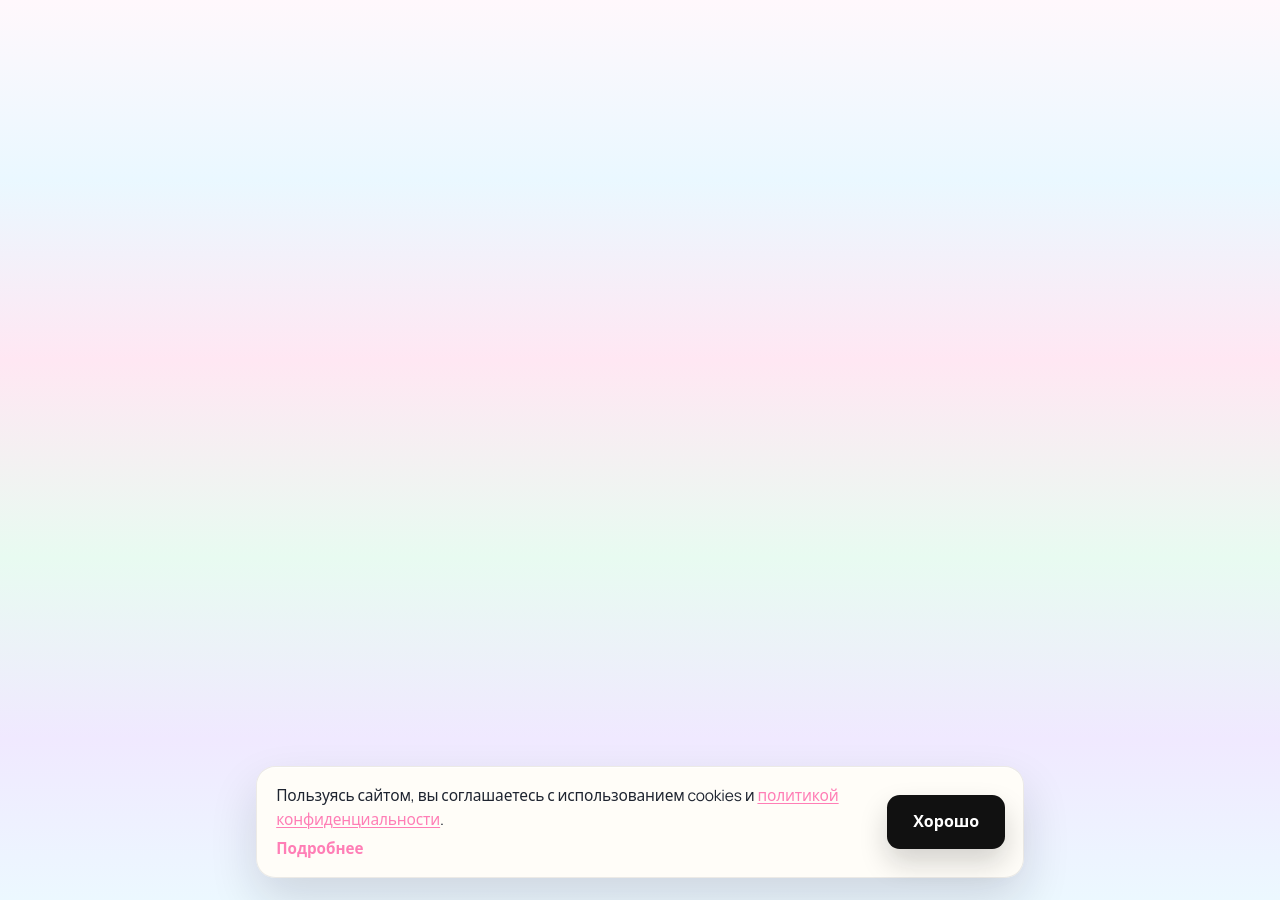
it: shows collapsed consent copy, expands details, and links to privacy and cookie policy pages
Expected: the text "Пользуясь сайтом, вы соглашаетесь с использованием cookies" is shown, [276, 784, 754, 806]
Expected: the text "Продолжая использовать сайт, Вы соглашаетесь с использованием cookies" is not shown
Click the button "Подробнее" at (320, 849), box [276, 837, 364, 861]
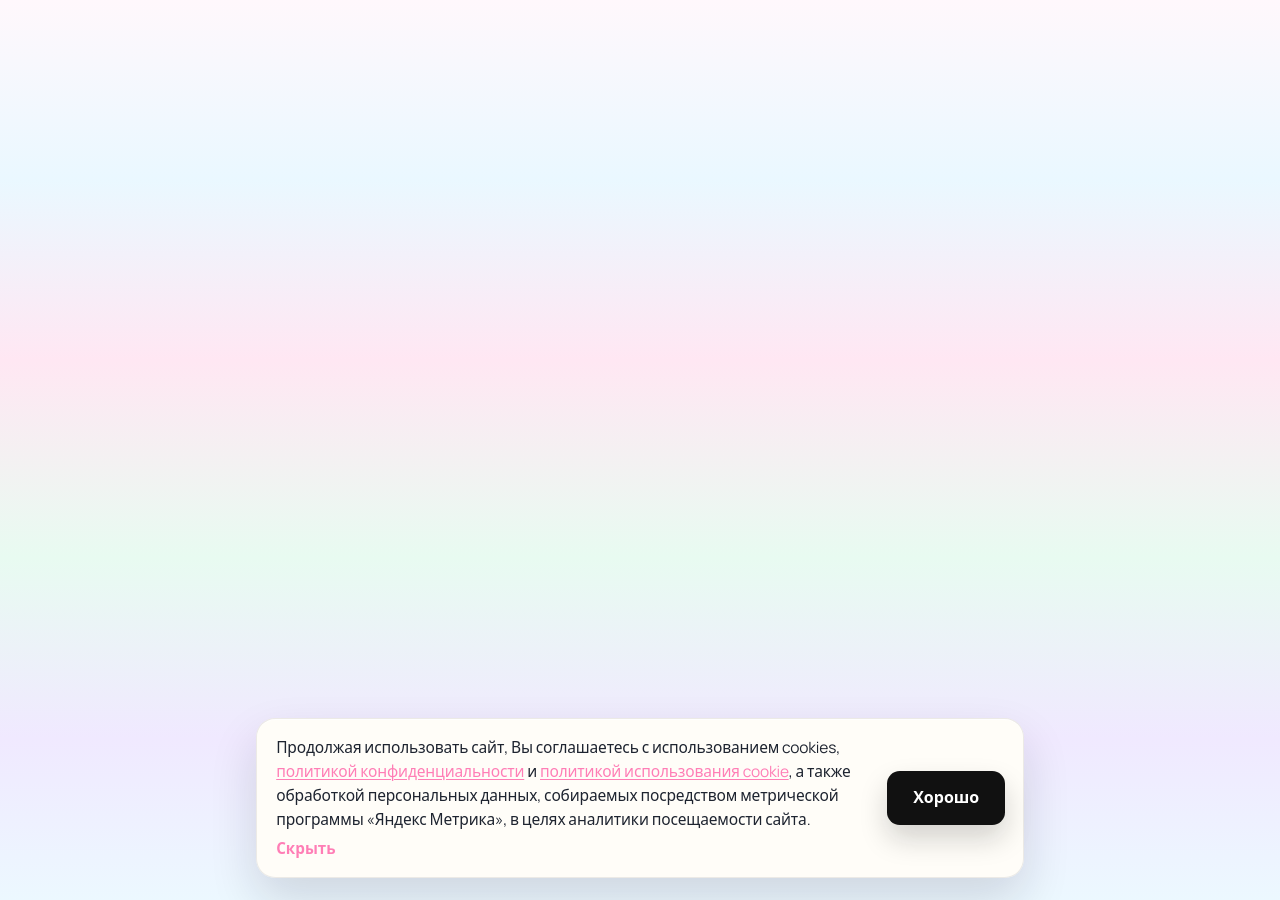
Now the text "Продолжая использовать сайт, Вы соглашаетесь с использованием cookies" is shown, box [276, 736, 840, 758]
